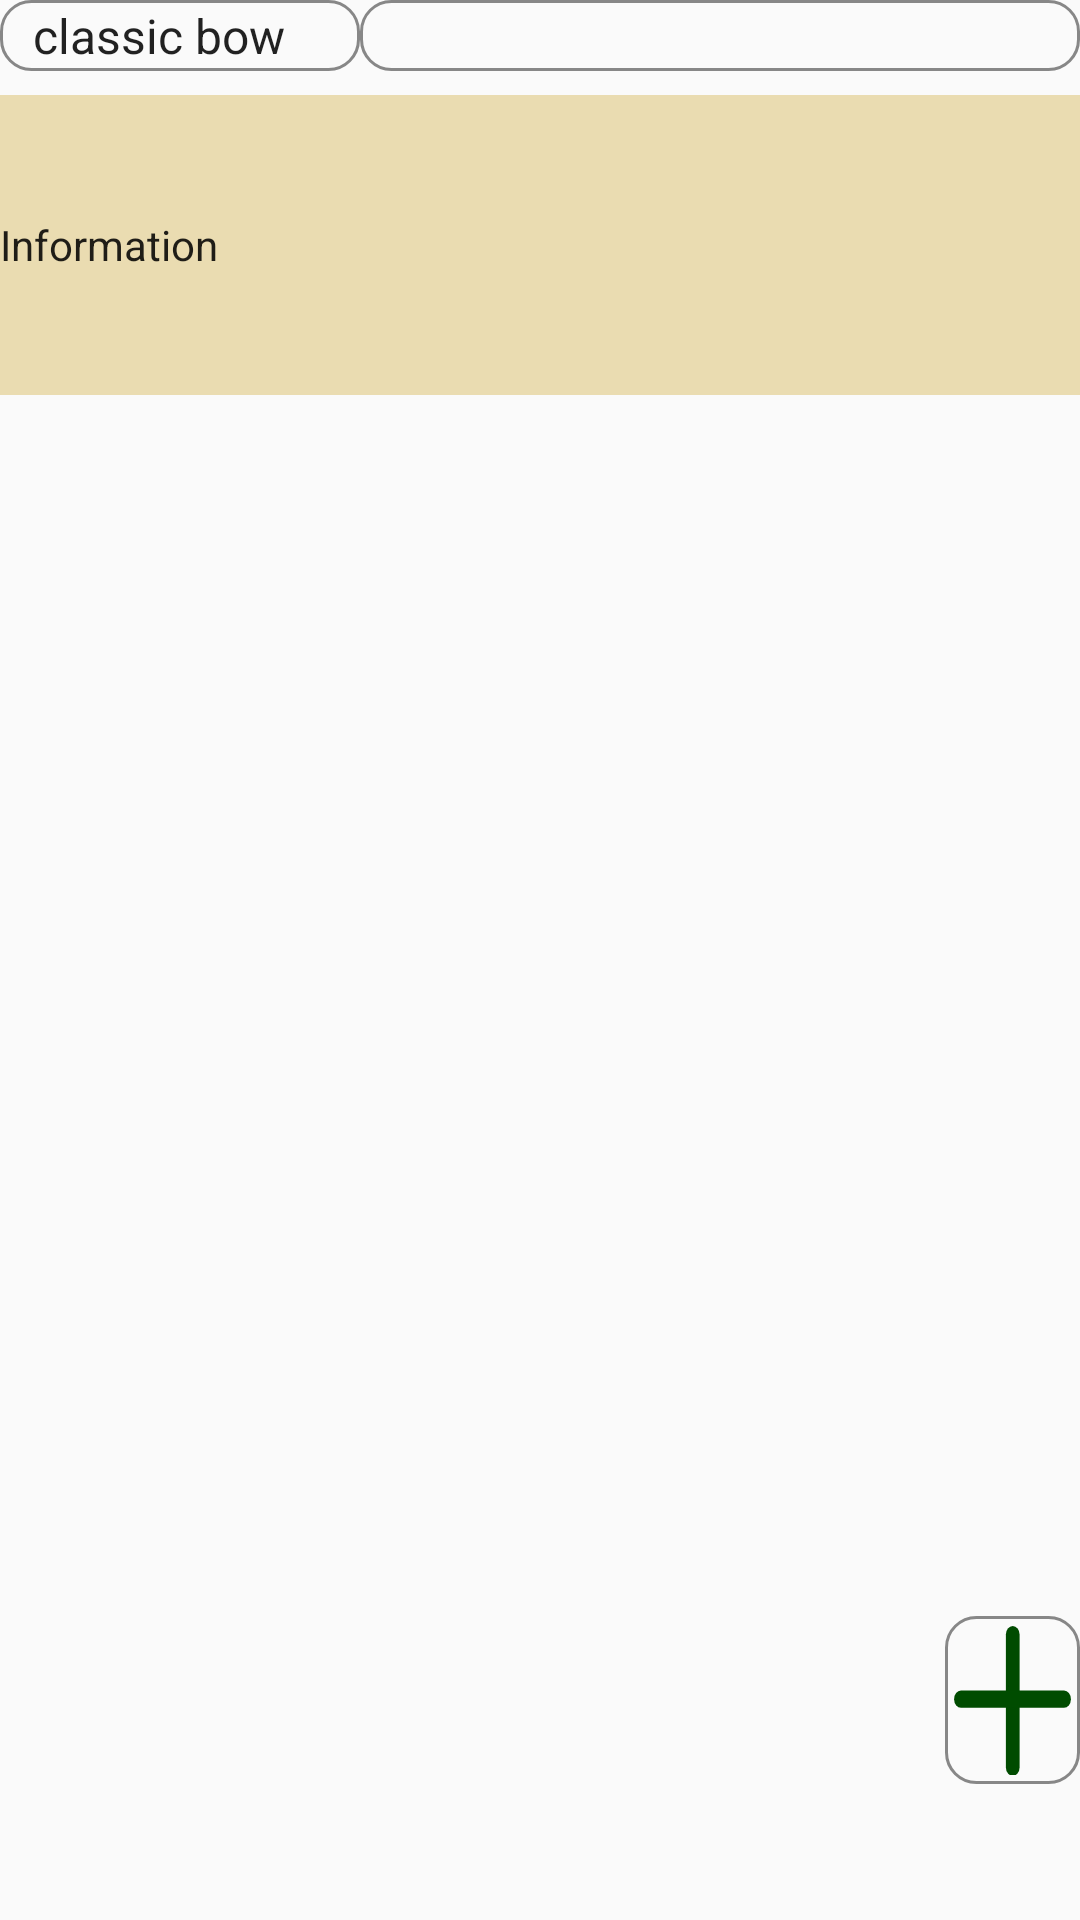

Named icons in this screenshot (1080×1920) and their centers, (x=x, y=y):
ar buttonshape add: (x=1012, y=1700)
